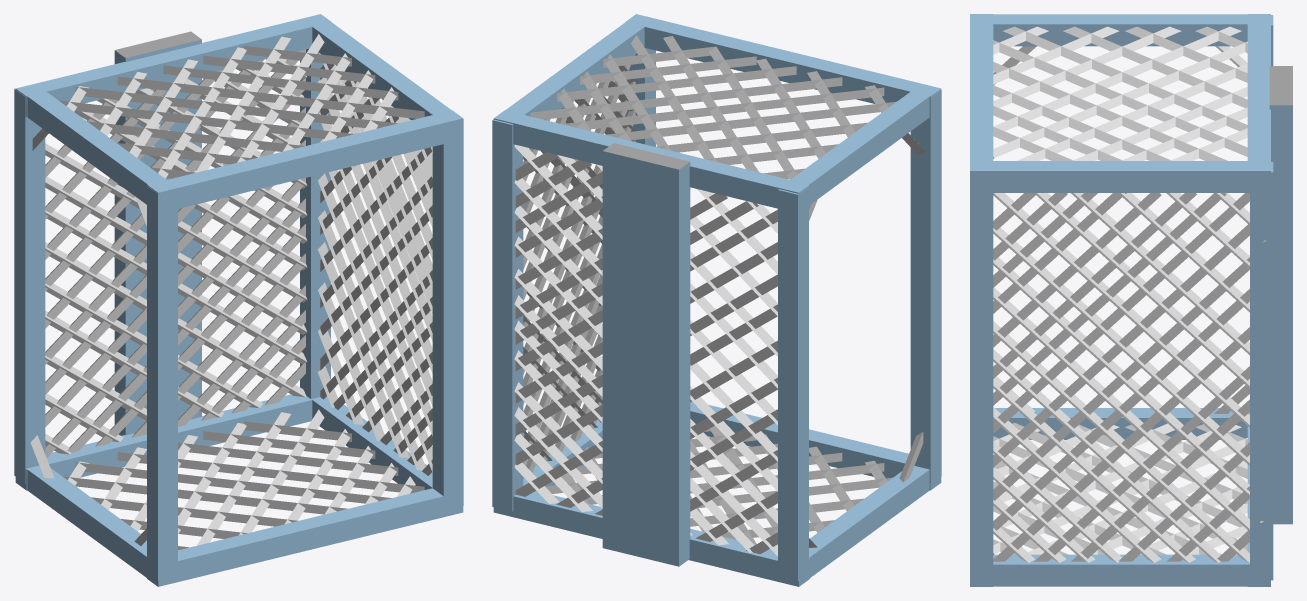
Rendered from elevator_2.fbx.
3 renders of one model, left to right at view 1: azimuth 30°, elevation 25°; view 2: azimuth 150°, elevation 25°; view 3: azimuth 270°, elevation 25°, orthographic. The views are drawn at different scales.
Visible parts, largest first — view 1: Cube_3; view 2: Cube_3; view 3: Cube_3.
Part boxes in pixels (bbox=[...]): Cube_3: bbox=[14, 14, 463, 586]; Cube_3: bbox=[492, 14, 941, 586]; Cube_3: bbox=[970, 14, 1292, 586].
Size of the model in its own units: 243 by 302 by 209.
